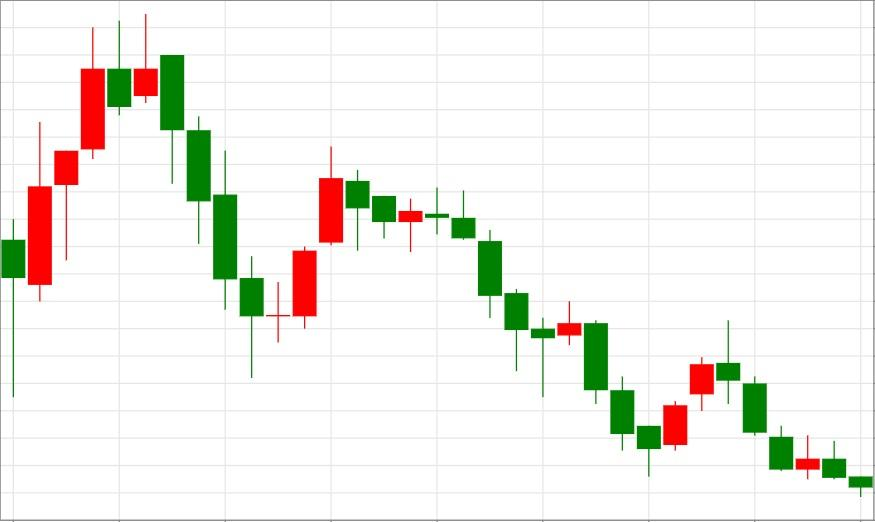morning_star_rise: (132, 14, 318, 378)
shooting_star_fall: (0, 14, 159, 398)
three_black_crows_fall: (637, 320, 794, 476)
